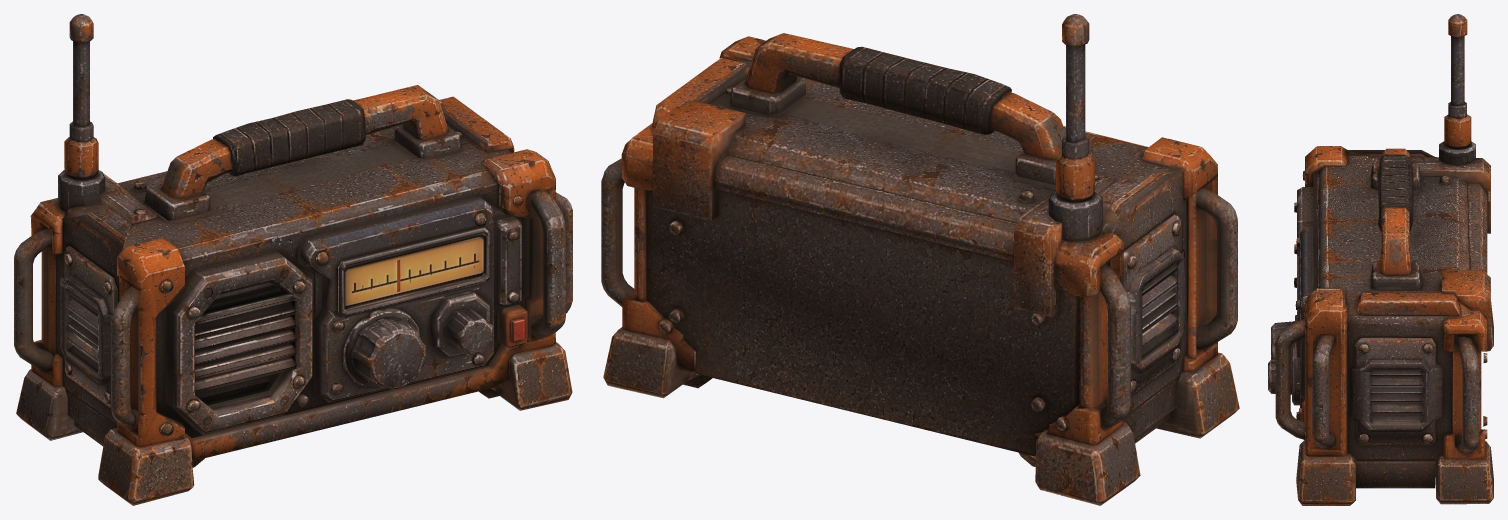
Rendered from Apocalyptic_Radio.glb.
3 views of the same model, side by side, from view 1: azimuth 30°, elevation 25°; view 2: azimuth 150°, elevation 25°; view 3: azimuth 270°, elevation 25° (orthographic). The views are drawn at different scales.
Visible parts, largest first — view 1: tripo_node_9b860cda_tripo_mat_9b860cda_0; view 2: tripo_node_9b860cda_tripo_mat_9b860cda_0; view 3: tripo_node_9b860cda_tripo_mat_9b860cda_0.
Part boxes in pixels (bbox=[...]): tripo_node_9b860cda_tripo_mat_9b860cda_0: bbox=[14, 14, 572, 505]; tripo_node_9b860cda_tripo_mat_9b860cda_0: bbox=[601, 14, 1239, 505]; tripo_node_9b860cda_tripo_mat_9b860cda_0: bbox=[1268, 14, 1493, 505].
Size of the model in its own units: 0.9995 by 0.8423 by 0.5151.
Materials: 1 (1 with a texture image).
